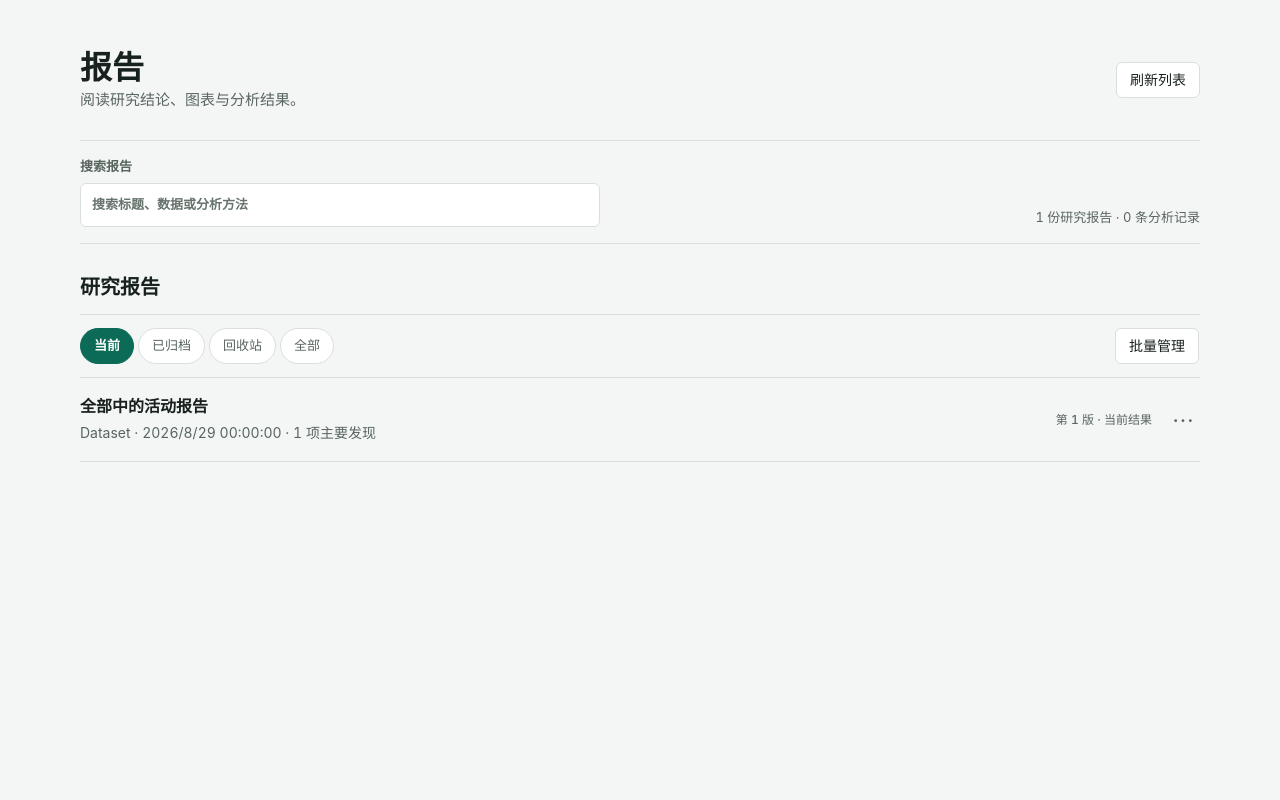
Test: keeps bulk actions available when the all-reports filter mixes lifecycle states
Expected: the link "全部中的活动报告 Dataset · 2026/8/29 00:00:00 · 1 项主要发现 第 1 版 · 当前结果" is shown, [80,396,1152,441]
Click the button "全部" at (307, 346), box [280,328,334,364]
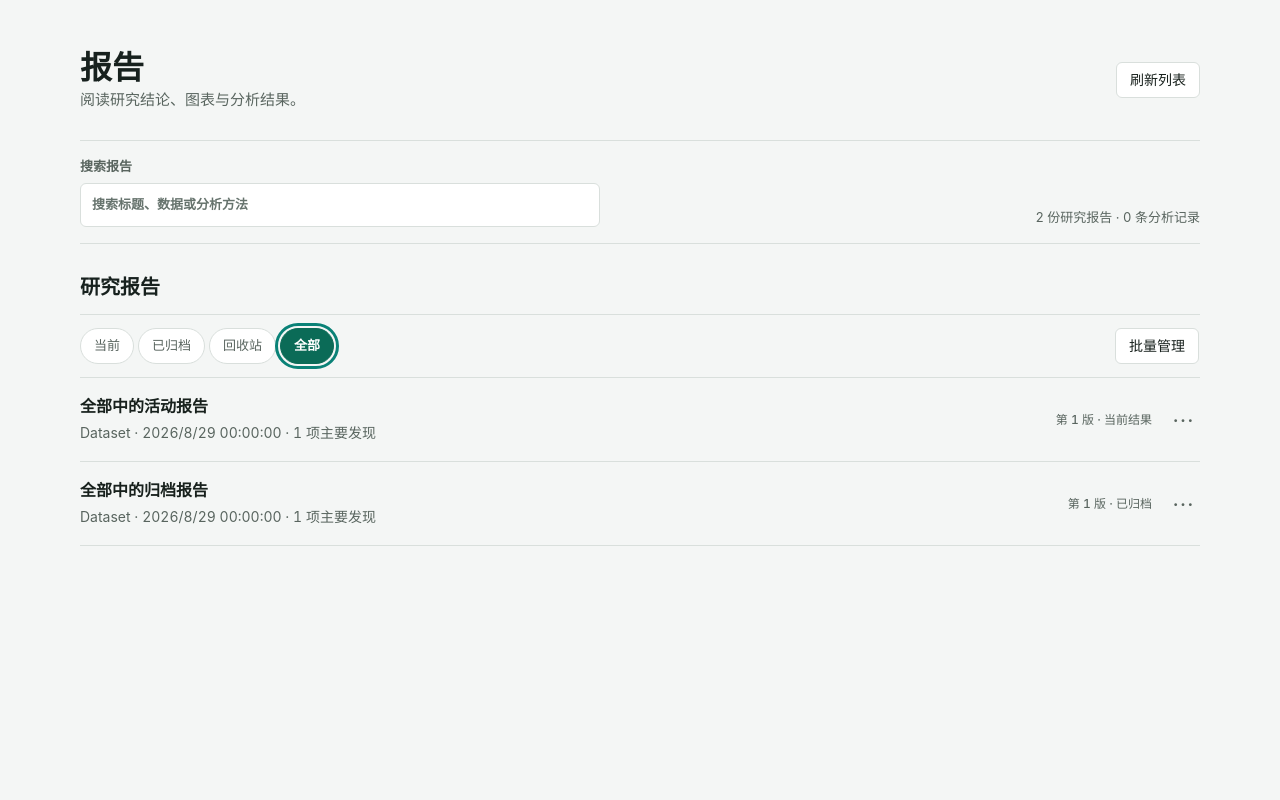
Click the button "批量管理" at (1157, 346), box [1115,328,1199,364]
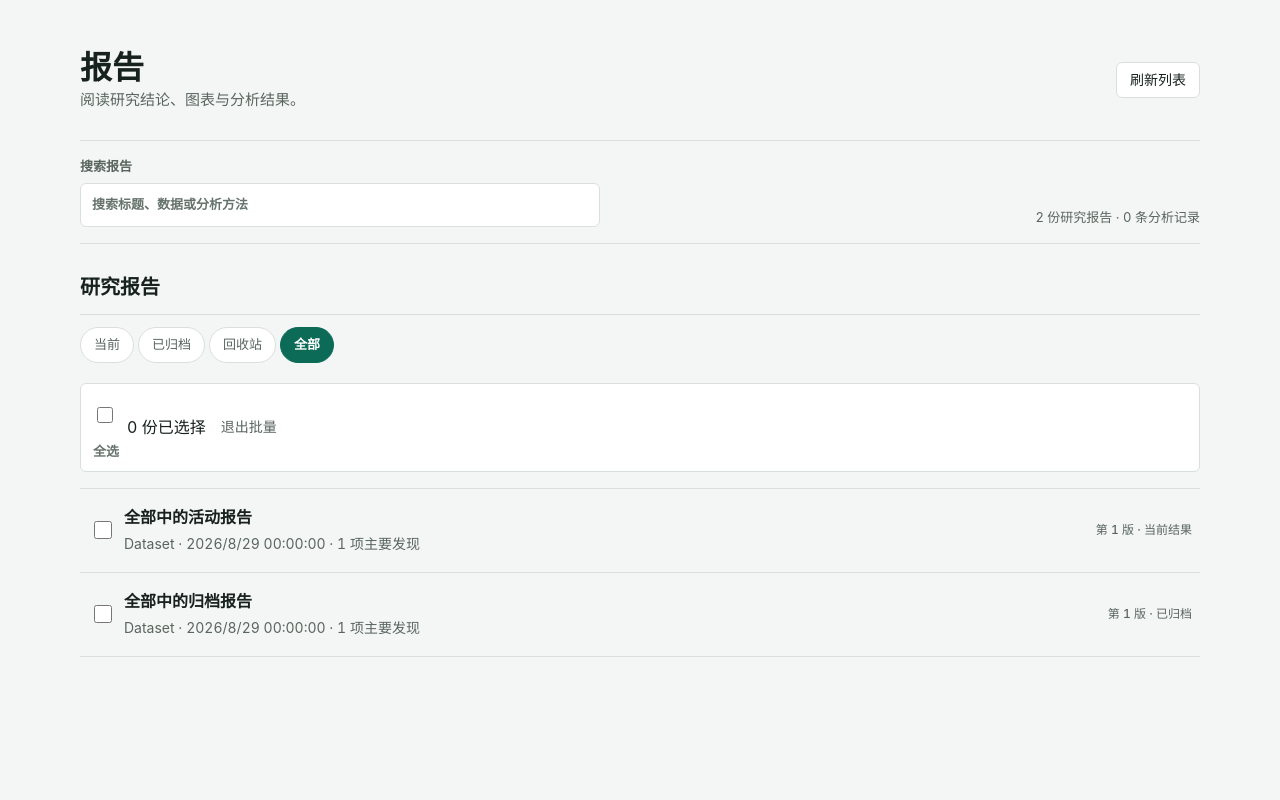
Click the checkbox named "全选可批量操作报告" at (105, 415), box [97,397,113,433]
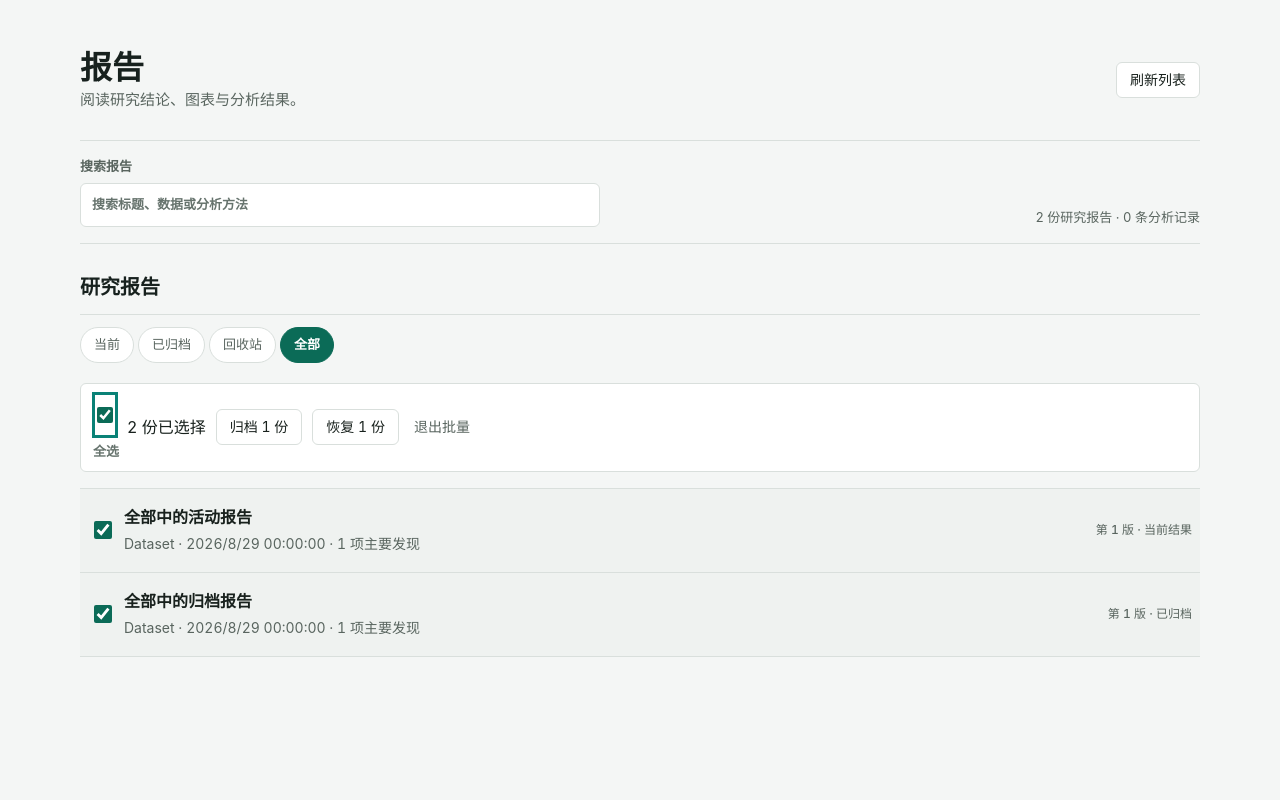
Result: the button "归档 1 份" is shown at [216,409,302,445]
Result: the button "恢复 1 份" is shown at [312,409,399,445]
